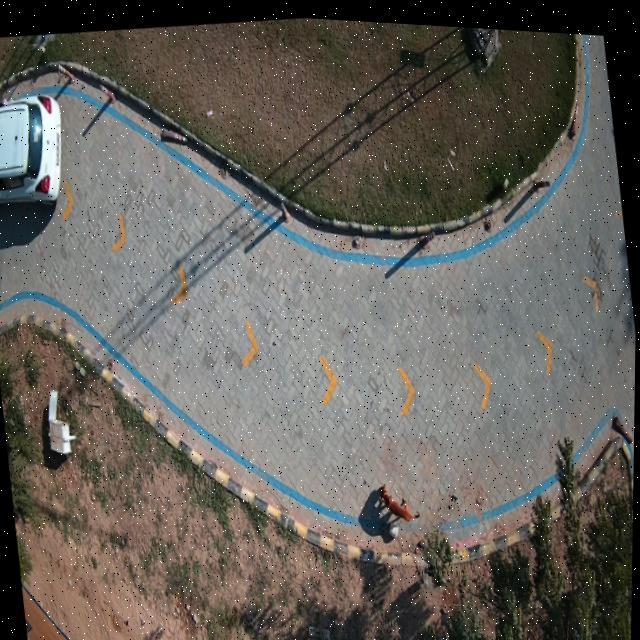car: (0, 98, 62, 207)
